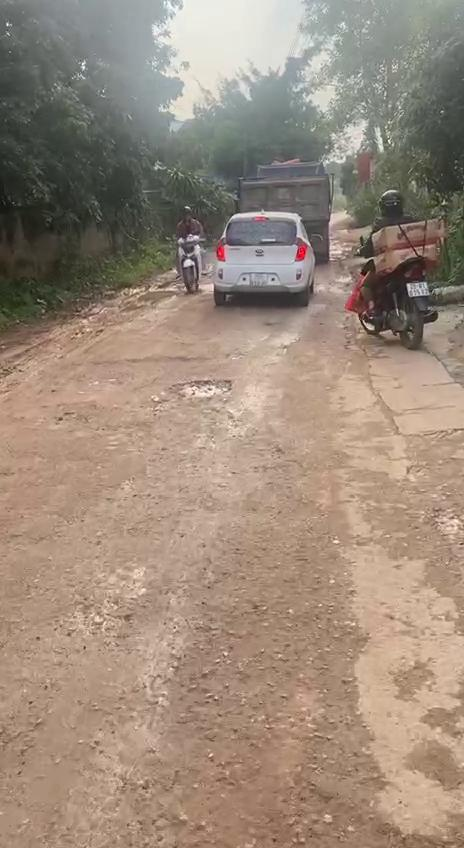pothole: (166, 376, 235, 404)
